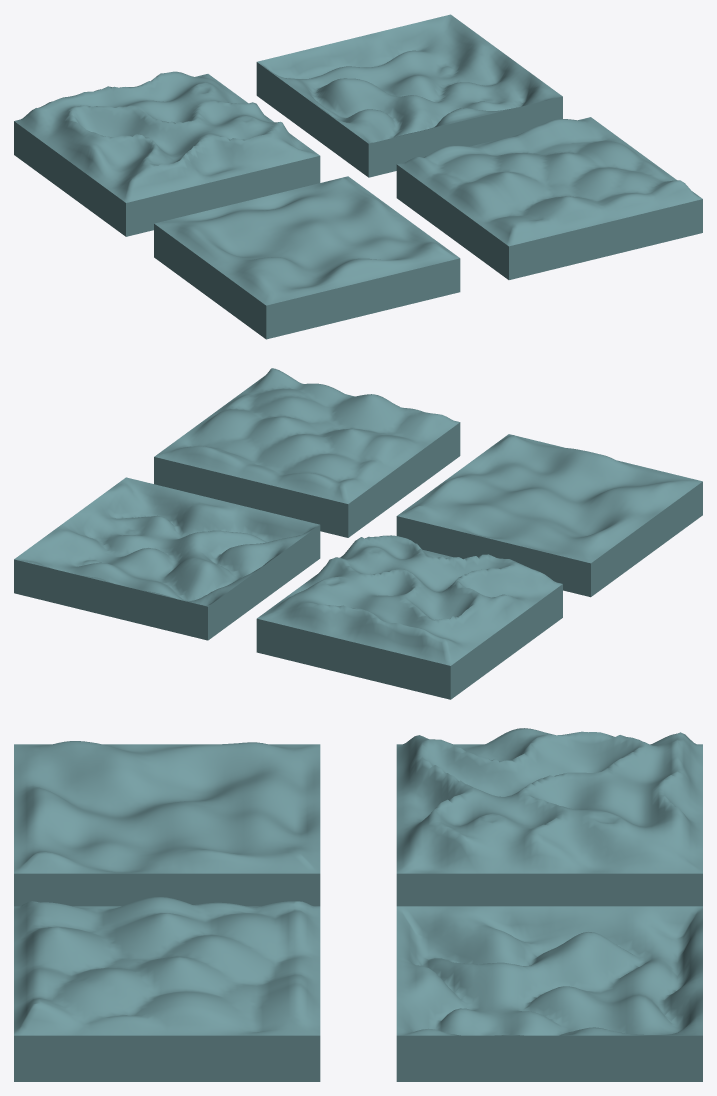
Rendered from paths_noise.glb.
3 renders of one model, top to bottom at view 1: azimuth 30°, elevation 25°; view 2: azimuth 150°, elevation 25°; view 3: azimuth 270°, elevation 25°, orthographic. The views are drawn at different scales.
Visible parts, largest first — view 1: cells; view 2: cells; view 3: cells.
Part boxes in pixels (x1=…): cells: x1=14, y1=14, x2=702, y2=339; cells: x1=14, y1=368, x2=702, y2=699; cells: x1=14, y1=728, x2=702, y2=1081.
Size of the model in its own units: 0.108 by 0.013 by 0.108.
